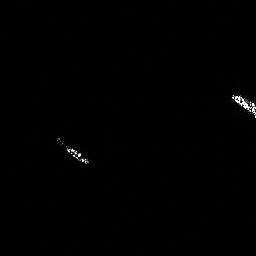ship: (55, 136, 90, 164), (230, 93, 256, 117)
